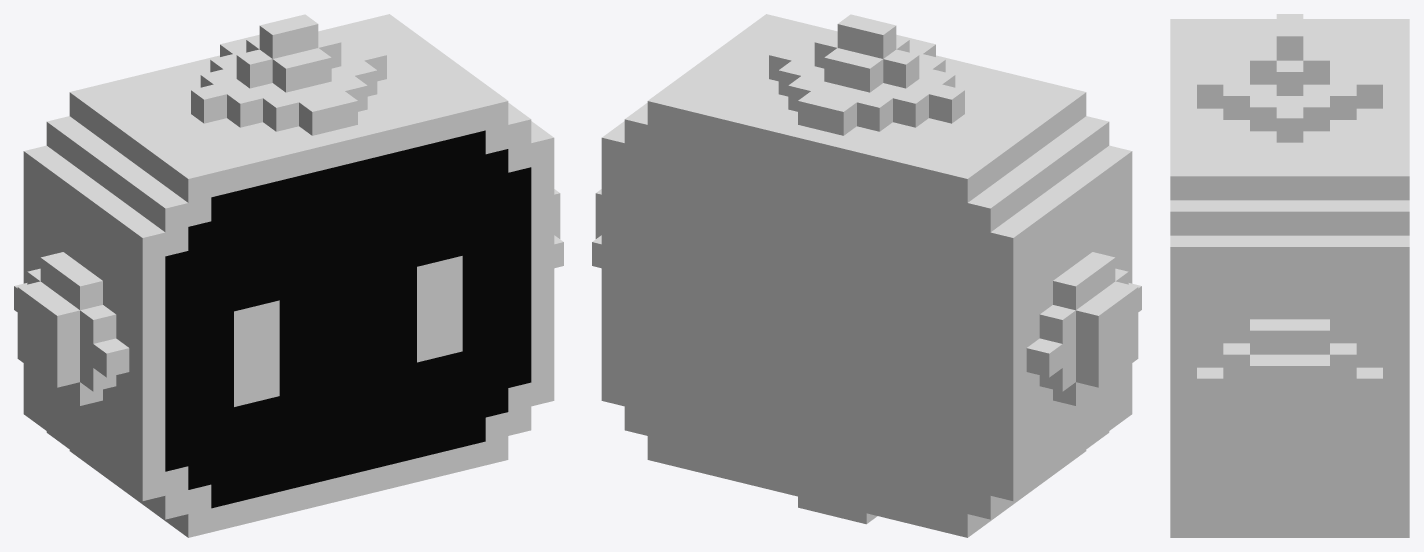
Rendered from primemachin_hair.glb.
The picture shows the model from 3 angles, left to right: view 1: azimuth 30°, elevation 25°; view 2: azimuth 150°, elevation 25°; view 3: azimuth 270°, elevation 25°; orthographic projection.
Visible parts, largest first — view 1: helmet; view 2: helmet; view 3: helmet.
Boxes of the visible parts, x1,y1,x2,y2 form: helmet: [14, 14, 563, 537]; helmet: [592, 14, 1141, 537]; helmet: [1170, 14, 1409, 537].
Size of the model in its own units: 0.946 by 0.817 by 0.387.
Materials: 1 (1 with a texture image).
